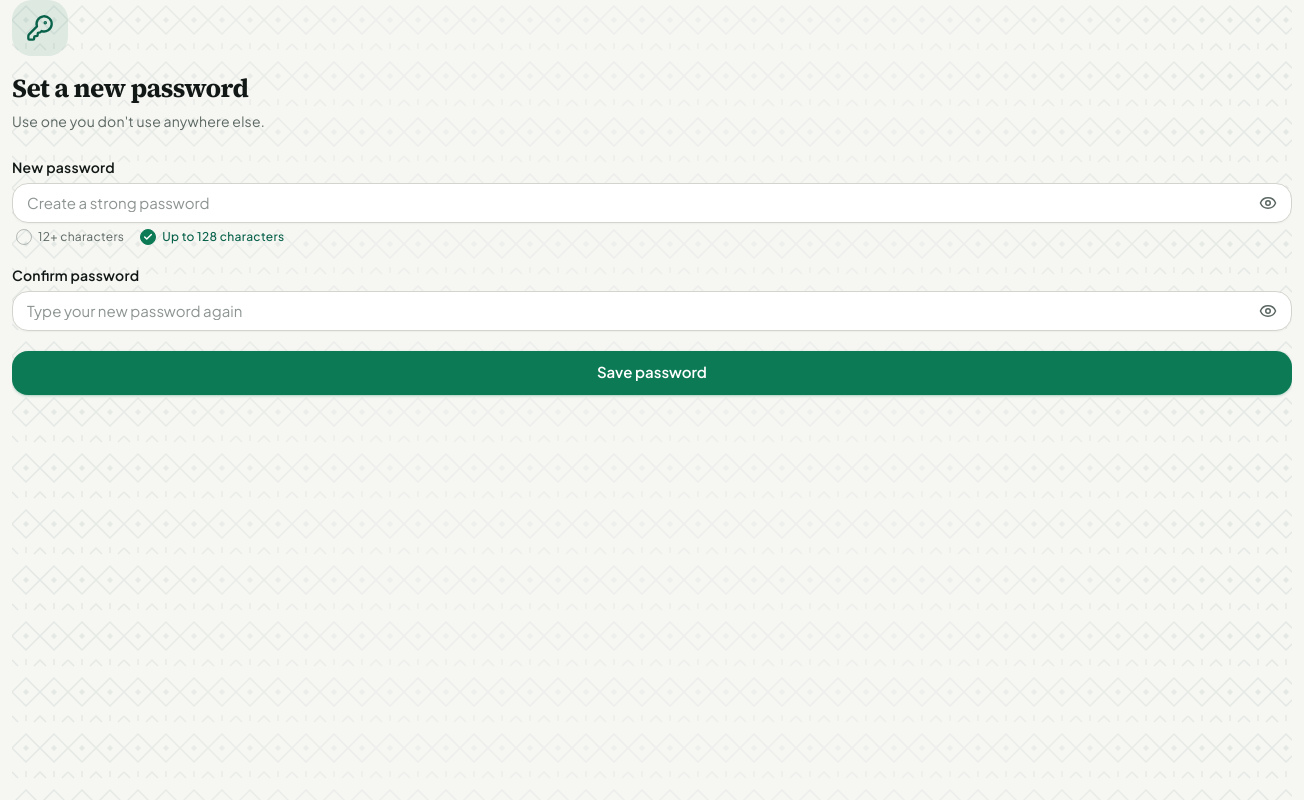
Test: ResetPasswordPage recovery session check › keeps typed passwords and shows a recoverable error when saving fails on the network
This screenshot has width=1304, height=800.
In the password field labelled "New password": point(652, 202) [12,182,1292,222], type "Str0ng!Passw0rd#2026"
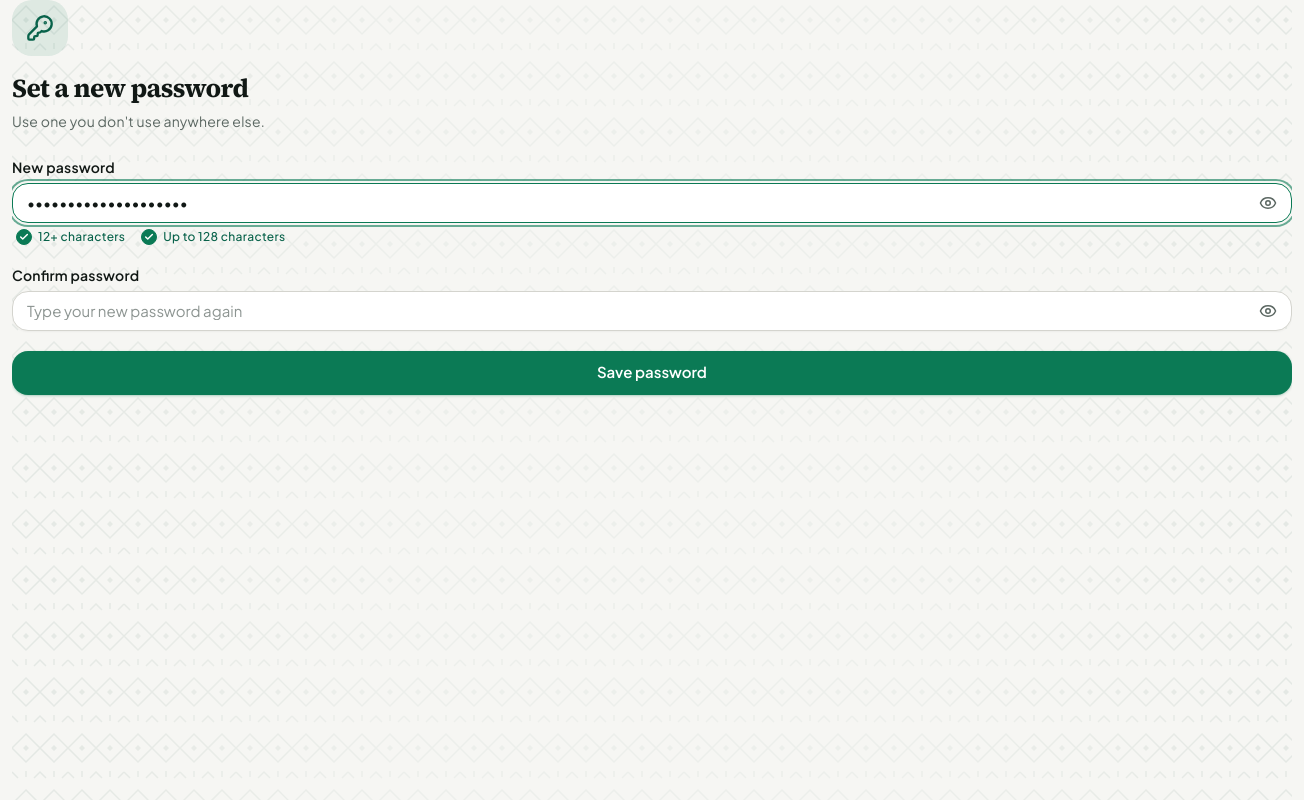
In the password field labelled "Confirm password": point(652, 310) [12,290,1292,330], type "Str0ng!Passw0rd#2026"
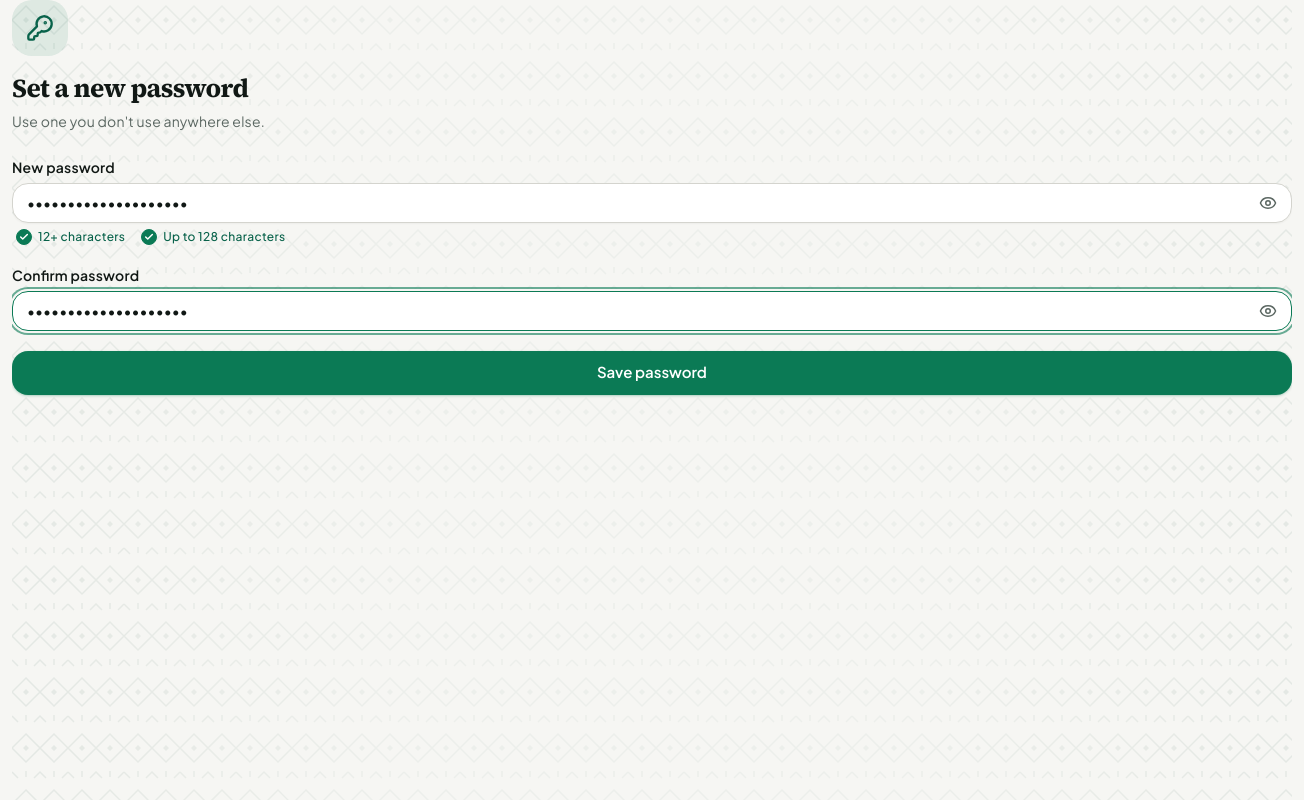
Click the button "Save password": point(652, 372) [12,350,1292,394]
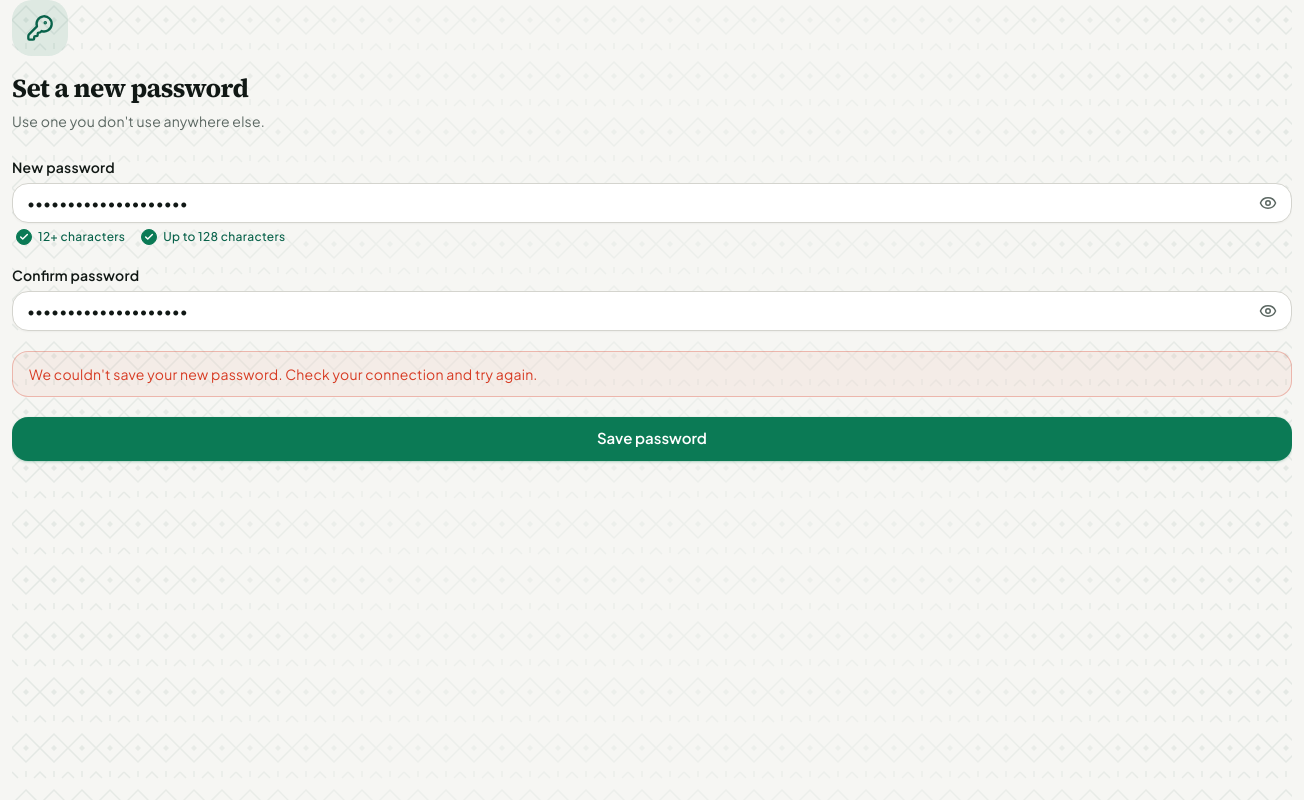
Check: the button "Save password" is enabled, box [12,416,1292,460]
Check: the message reads "We couldn't save your new password. Check your connection and try again.", box [29,364,538,382]
